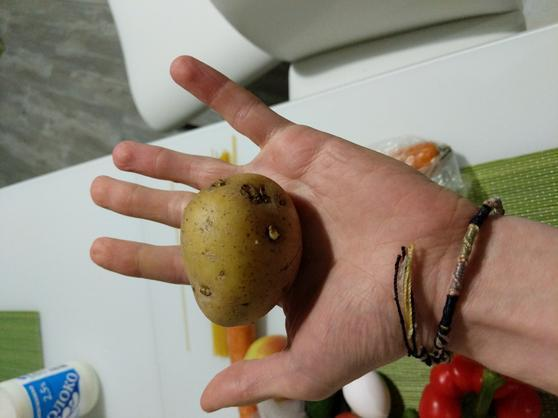egg: (340, 366, 405, 415)
milk: (4, 350, 116, 414)
pepper: (415, 354, 549, 413)
potato: (176, 164, 325, 333)
